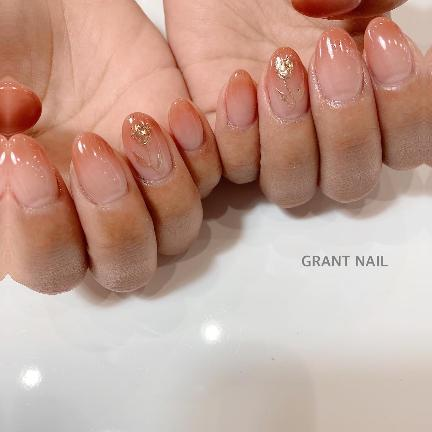Nail: (71, 132, 127, 205), (314, 28, 364, 103), (8, 134, 58, 208), (122, 113, 172, 181), (364, 18, 413, 87), (266, 47, 308, 120), (225, 69, 257, 128), (168, 99, 204, 151), (290, 0, 361, 18), (0, 135, 6, 196)
